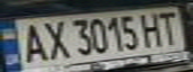0: (87, 16, 109, 54)
1: (106, 14, 124, 52)
3: (69, 16, 93, 56)
5: (118, 12, 142, 51)
A: (15, 20, 51, 64)
H: (136, 10, 166, 48)
T: (154, 9, 184, 46)
X: (36, 18, 72, 61)
